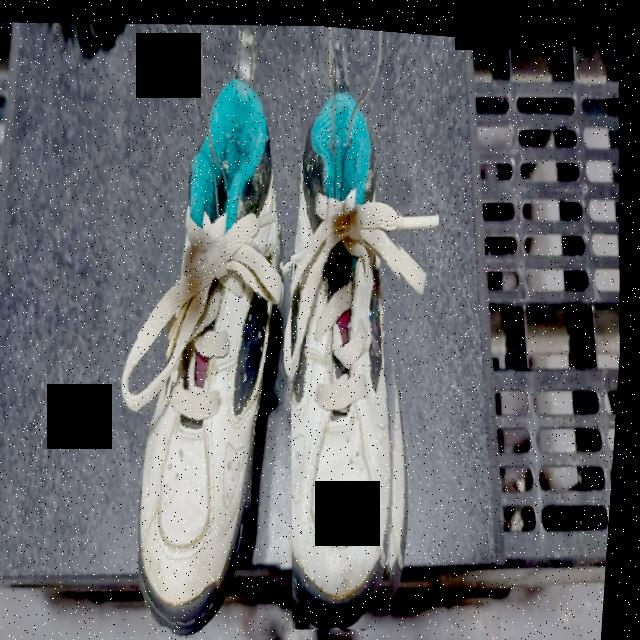shoe: (108, 65, 323, 640), (262, 72, 444, 631)
